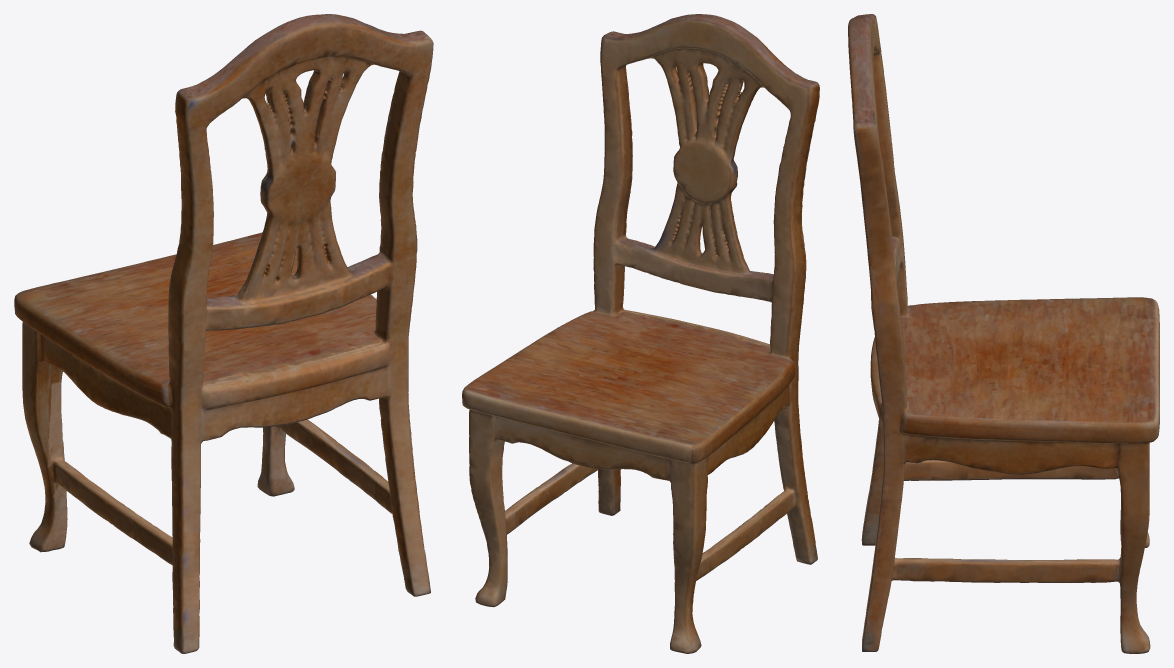
3 renders of one model, left to right at view 1: azimuth 30°, elevation 25°; view 2: azimuth 150°, elevation 25°; view 3: azimuth 270°, elevation 25°, orthographic. The views are drawn at different scales.
Visible parts, largest first — view 1: file1; view 2: file1; view 3: file1.
Part boxes in pixels (x1,y1,x2,y2): file1: [14, 14, 433, 653]; file1: [462, 14, 819, 653]; file1: [848, 14, 1159, 653].
Size of the model in its own units: 0.9751 by 2.01 by 0.9963.
Materials: 1 (1 with a texture image).
